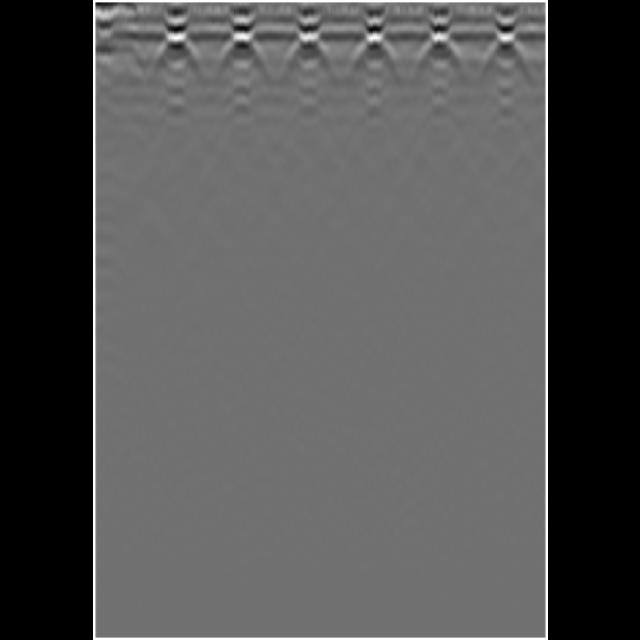hyperbola: (207, 34, 277, 86), (144, 30, 204, 86), (275, 31, 339, 81), (476, 29, 536, 82), (408, 34, 472, 80), (338, 31, 402, 71)
